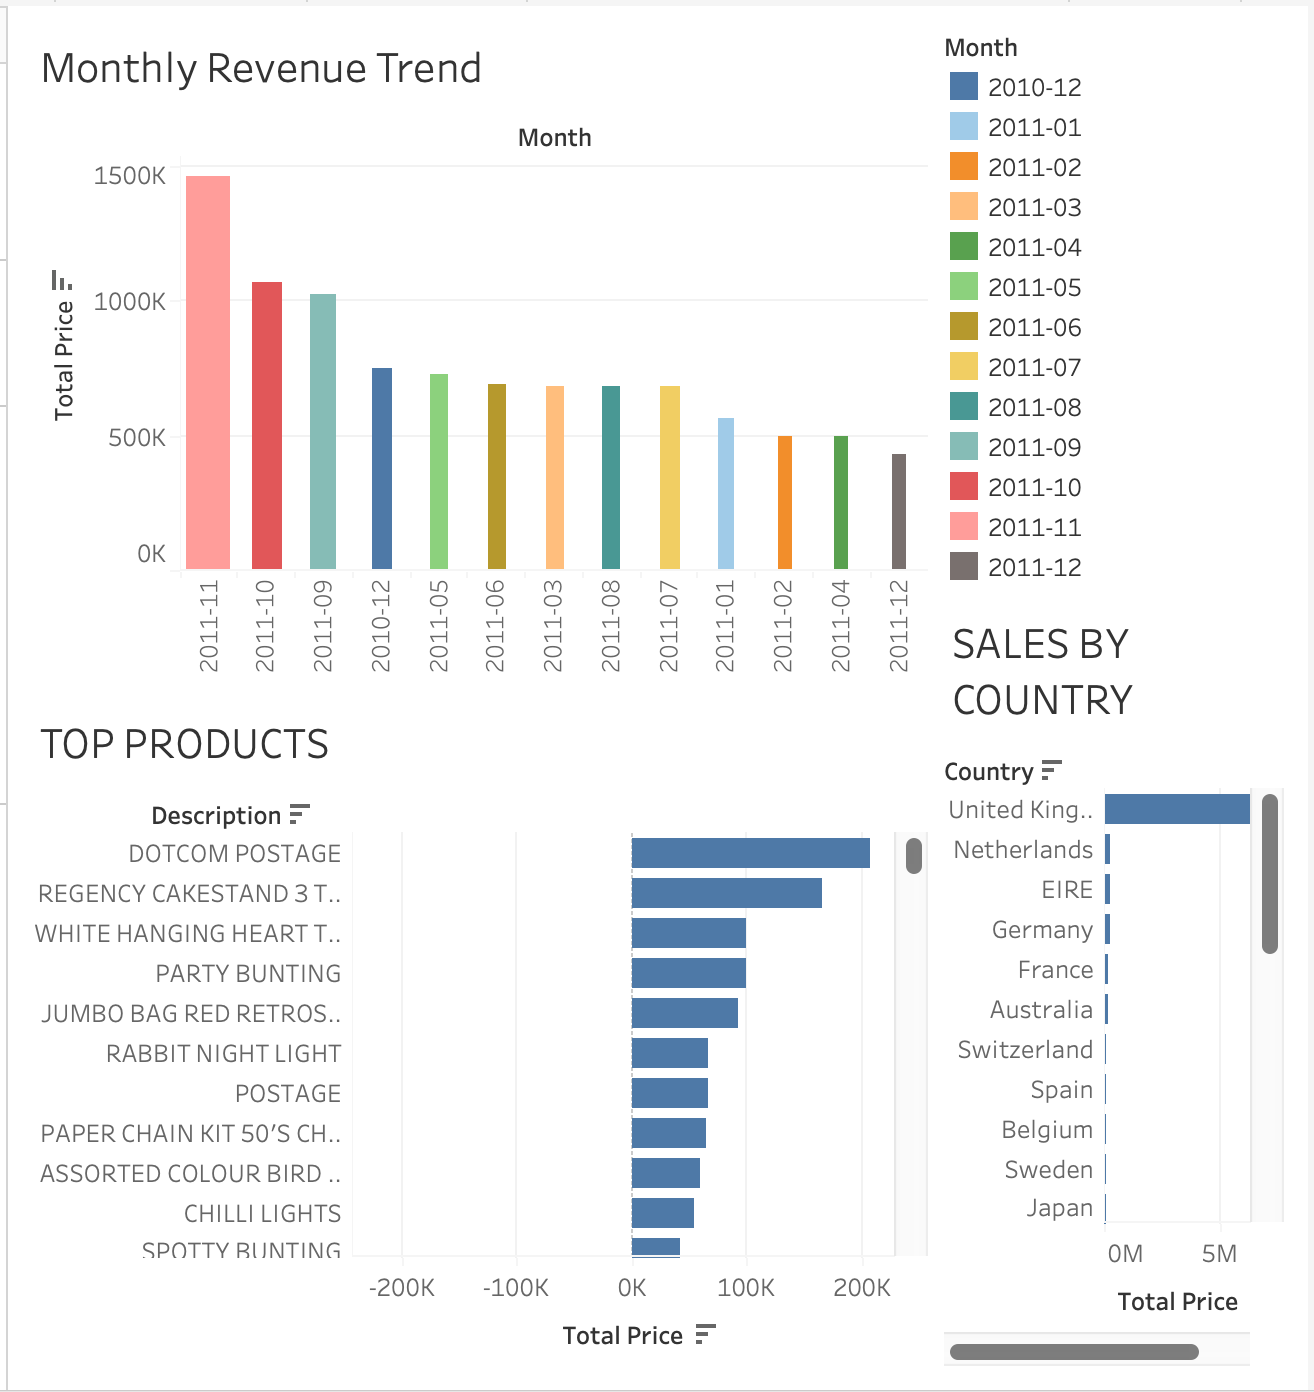

The page's visual inventory and layout, read from the dashboard file:
{"tool":"tableau","page":{"name":"Dashboard 1","canvas":[650,860],"ordinal":0},"visuals":[{"type":"worksheet","title":"Sheet 1","mark":"Automatic","rows":["TotalPrice"],"cols":["Month"],"box":[8,9.9,334,420.1]},{"type":"legend","title":"Sheet 1","param":"[federated.1q7zhme1kmvok417762470730q4d].[none:Month:nk]","box":[342,9.9,300,172.7]},{"type":"worksheet","title":"Sheet 4","mark":"Automatic","rows":["Country"],"cols":["TotalPrice"],"box":[342,182.7,300,667.4]},{"type":"worksheet","title":"Sheet 3","mark":"Automatic","rows":["Description"],"cols":["TotalPrice"],"box":[8,430,334,420.1]}]}

Visuals, with their boxes on the page's 650x860 design canvas (x1, y1, x2, y2). These are canvas units, not pixel positions in the 1314x1392 screenshot, which may show the page scaled, cropped or inside an application window:
"Sheet 1" worksheet: (left=8, top=10, right=342, bottom=430)
"Sheet 1" legend: (left=342, top=10, right=642, bottom=183)
"Sheet 4" worksheet: (left=342, top=183, right=642, bottom=850)
"Sheet 3" worksheet: (left=8, top=430, right=342, bottom=850)
